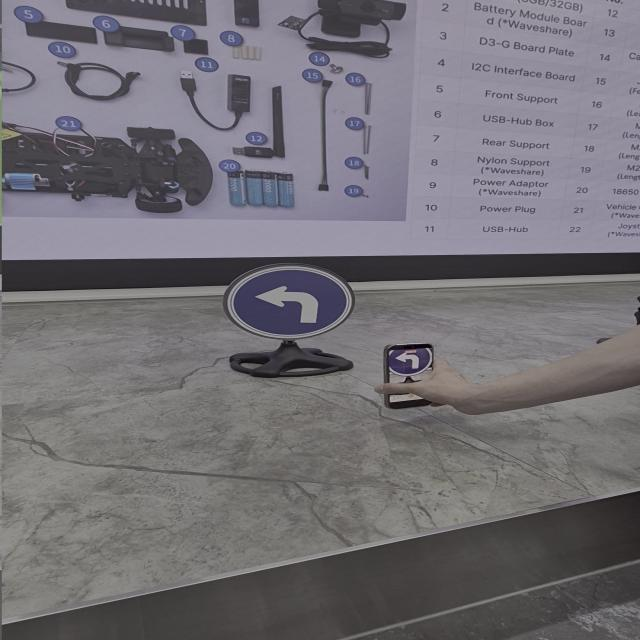left_direction: (216, 247, 402, 383)
